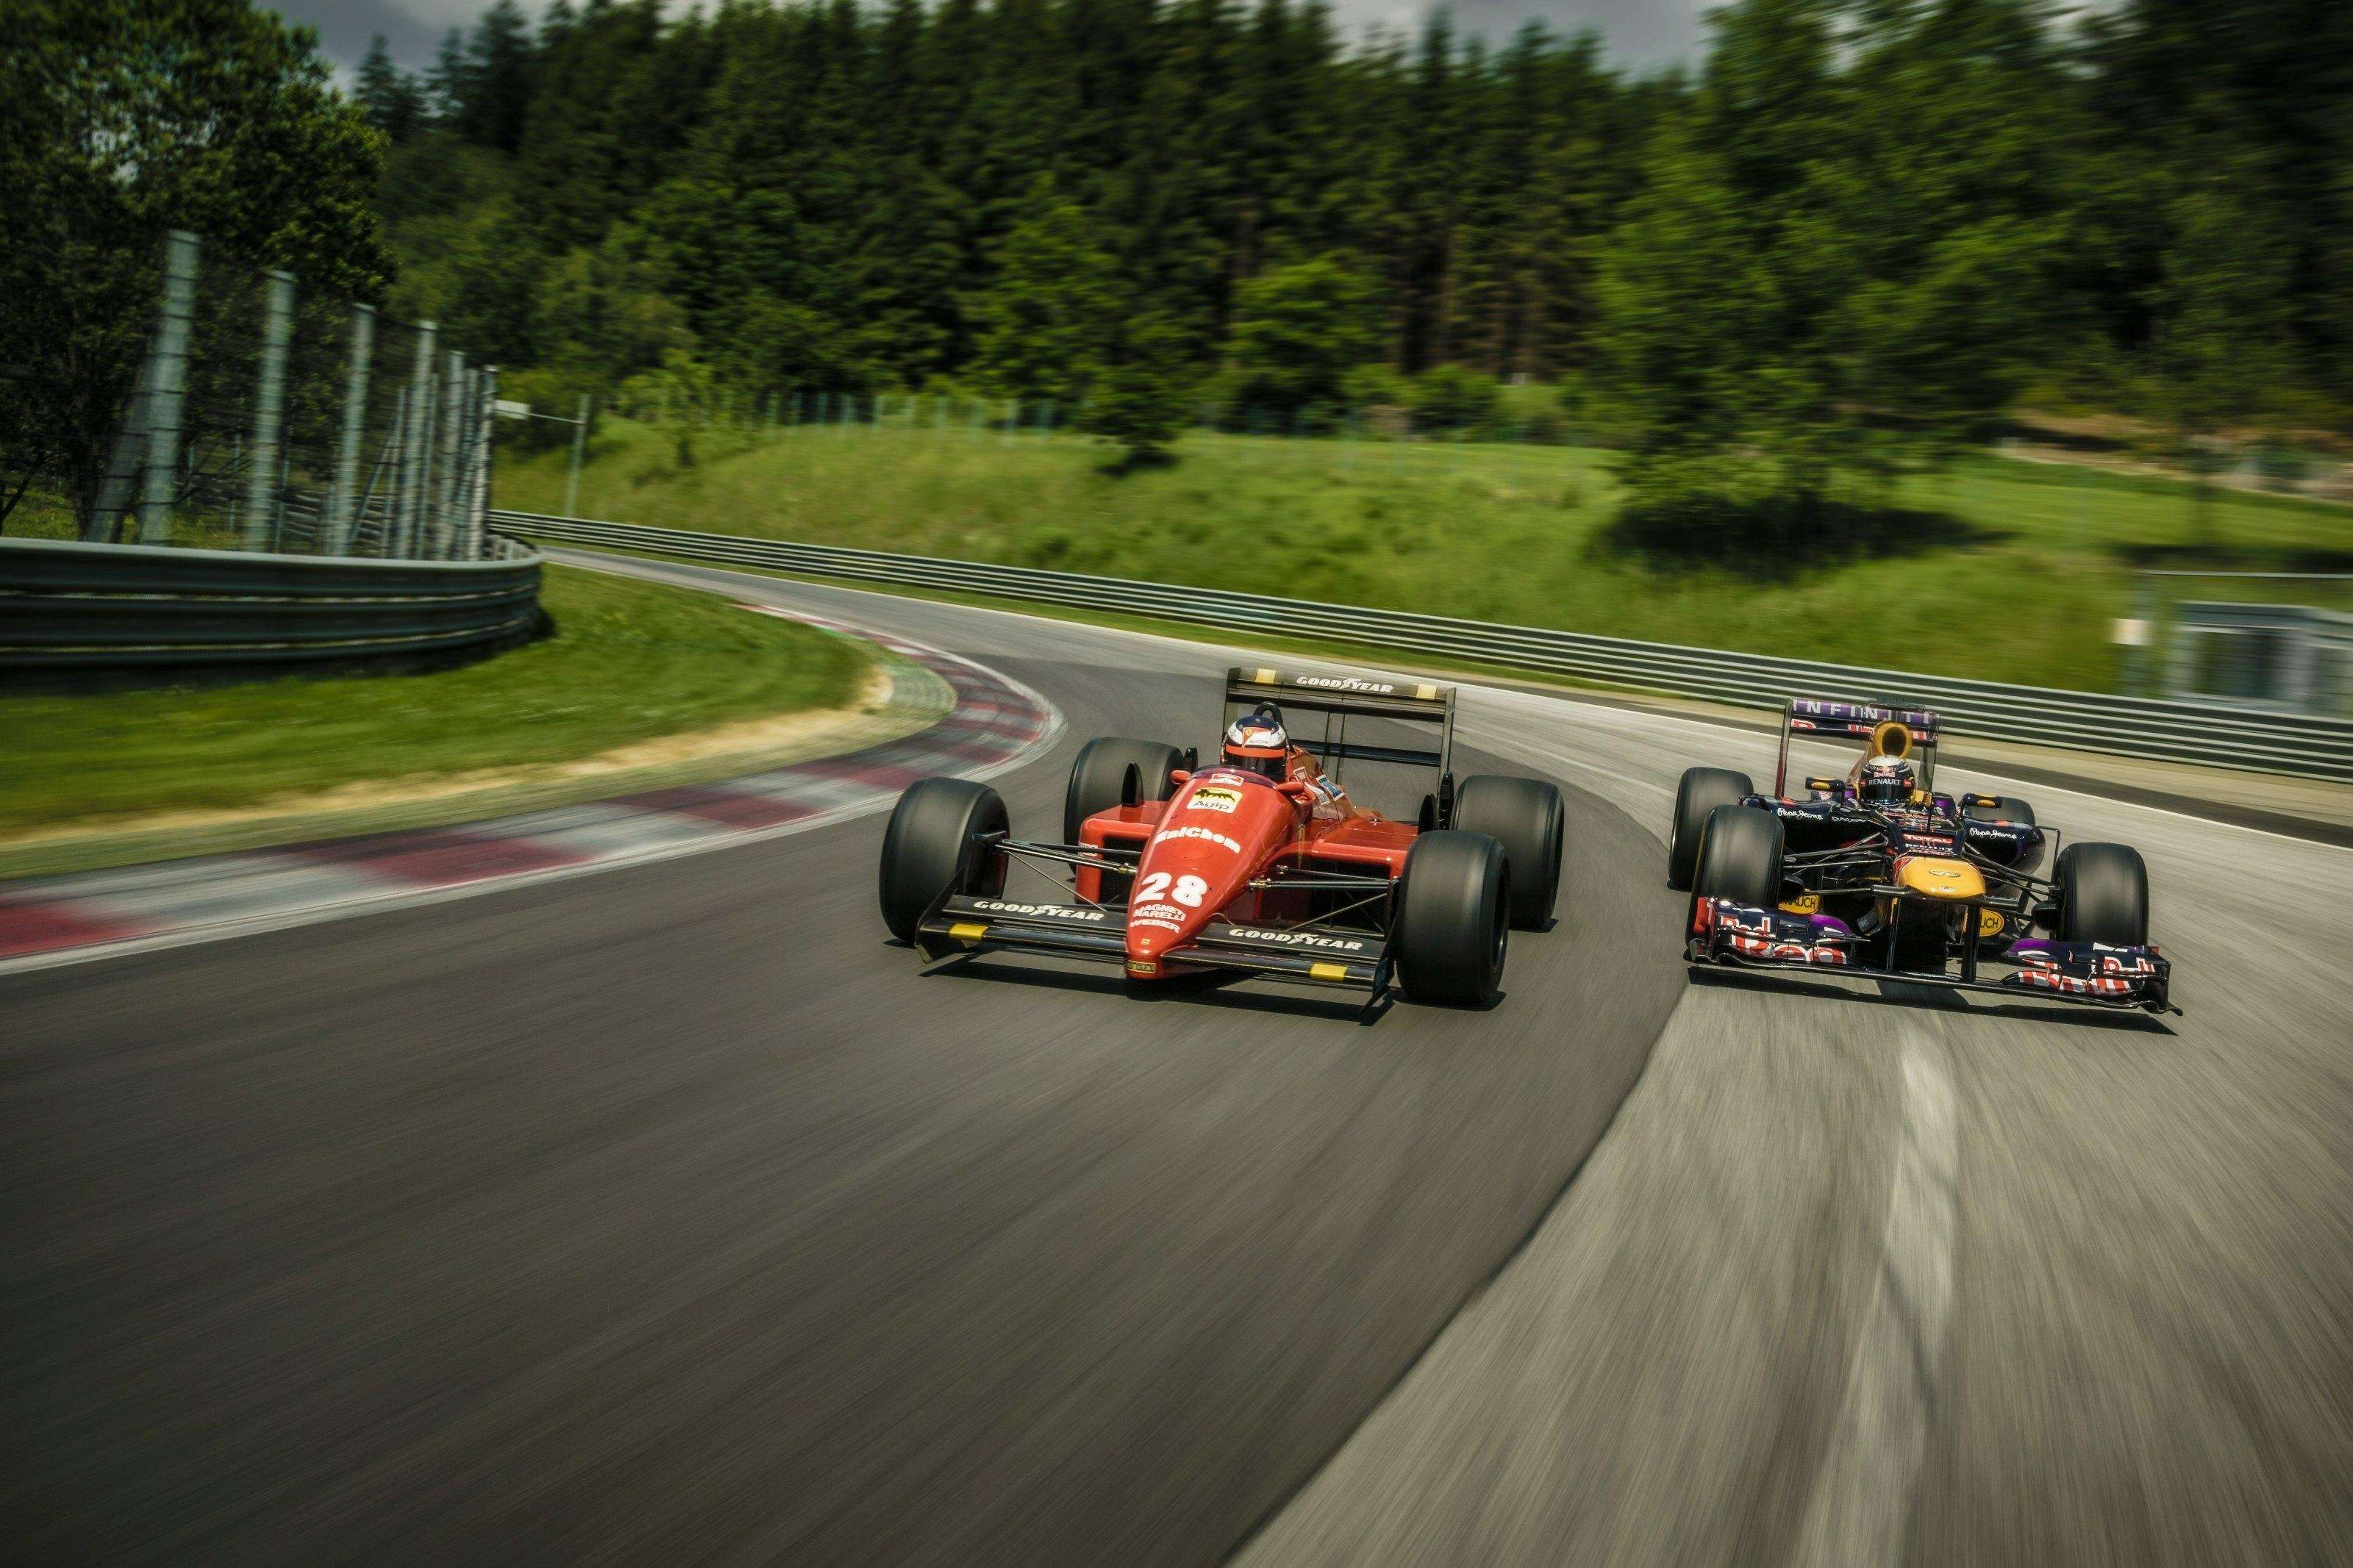f1_car: (856, 614, 1602, 1067), (1656, 682, 2222, 1081)
helmet: (1842, 747, 1933, 838), (1208, 705, 1303, 791)
